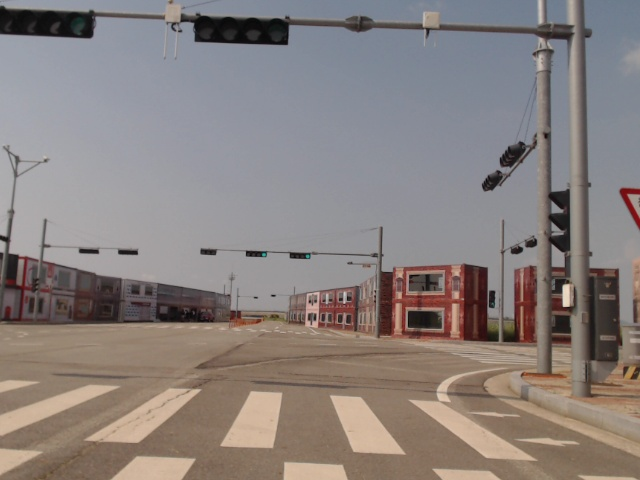straight_green_4: (0, 6, 93, 39), (196, 17, 289, 46), (247, 251, 267, 258), (291, 253, 311, 260)
